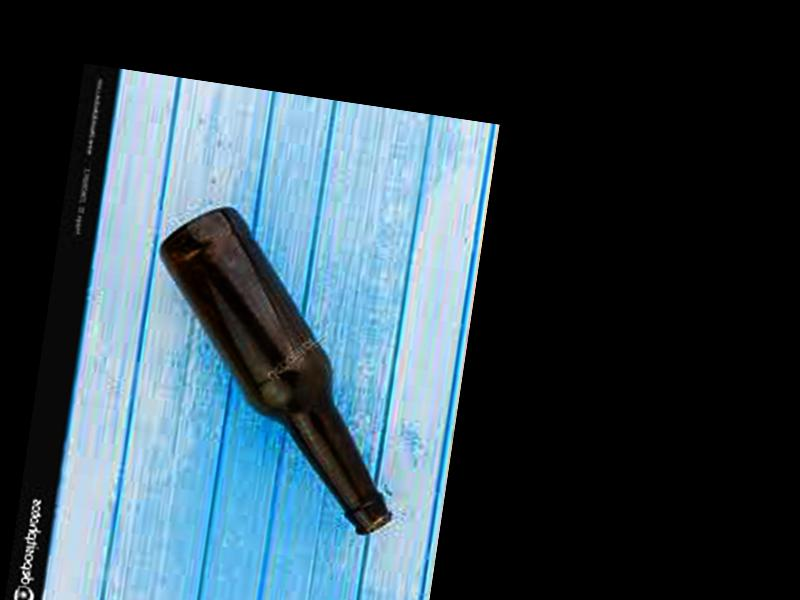Beer: (119, 197, 434, 536)
